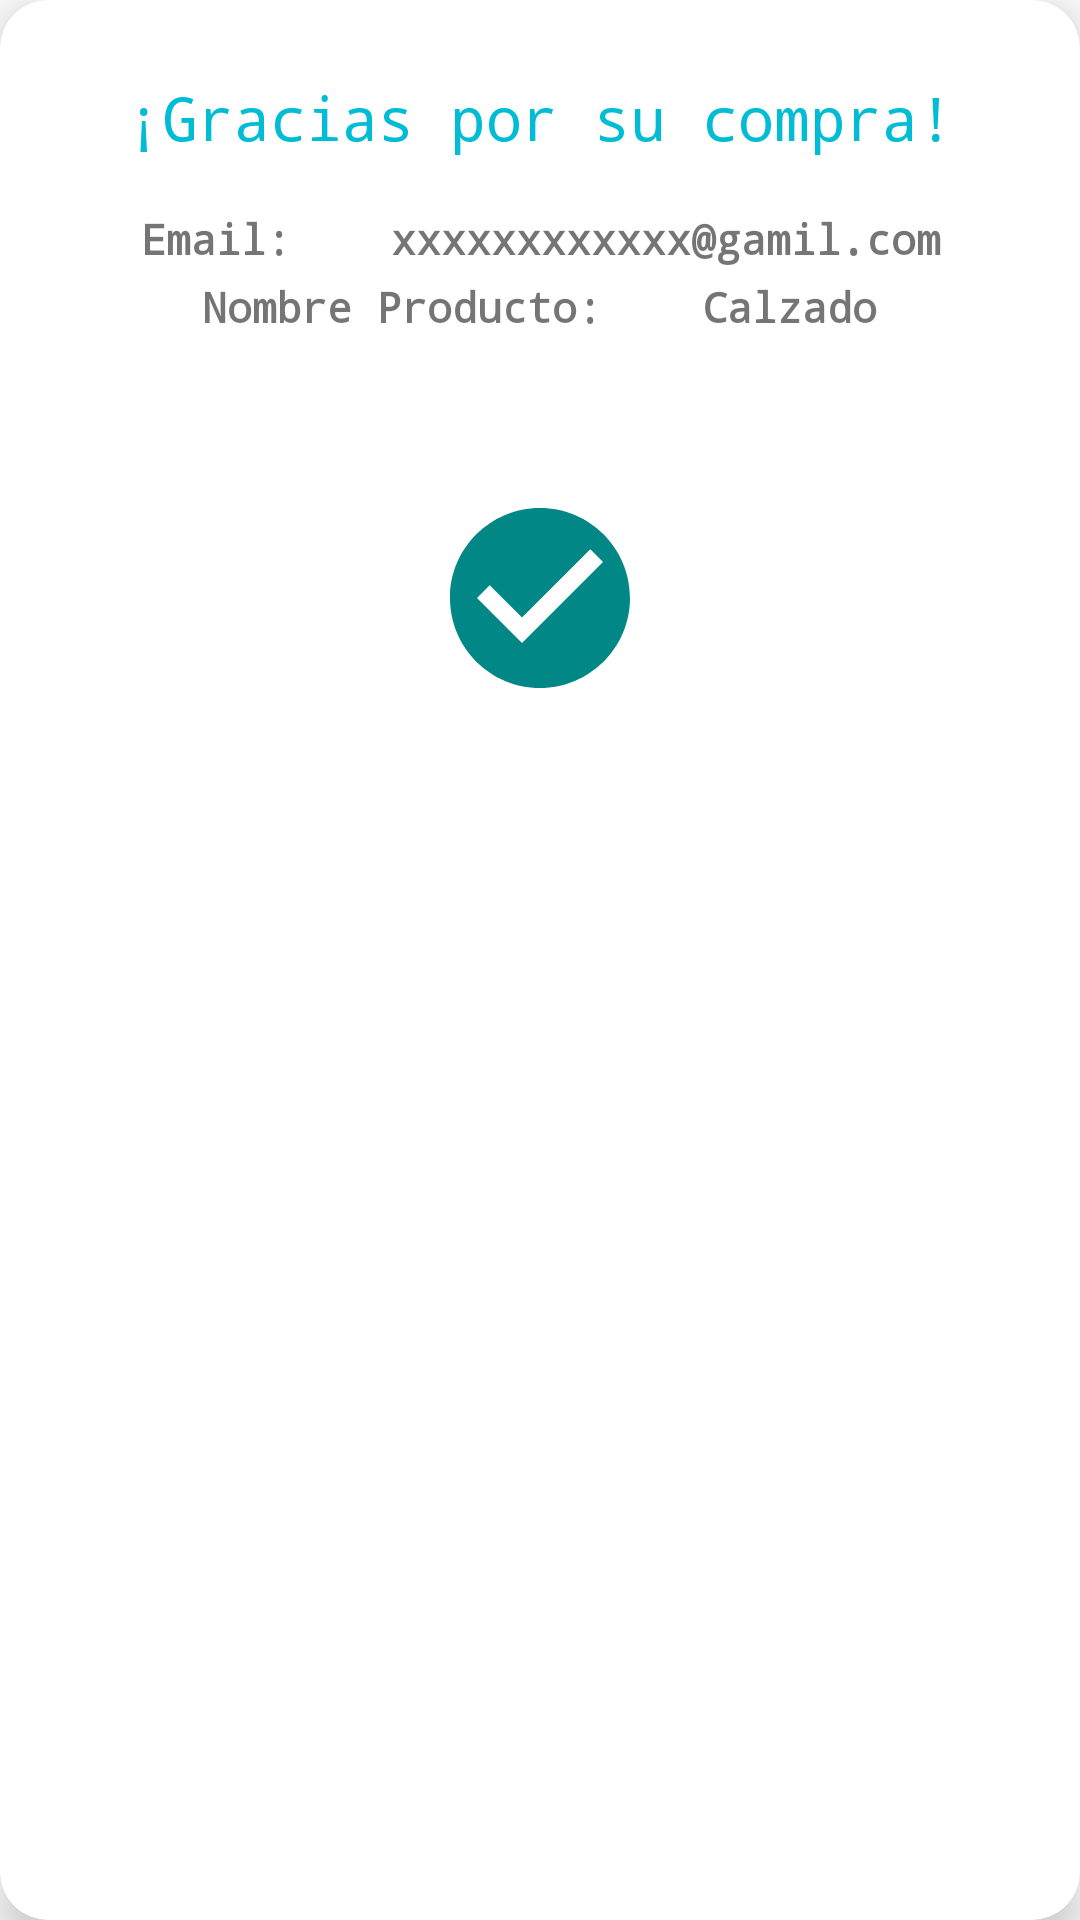

Point at icon controls on the screen. Image size 1080px×1920px, points as point (x, y).
check circle: point (539, 598)
